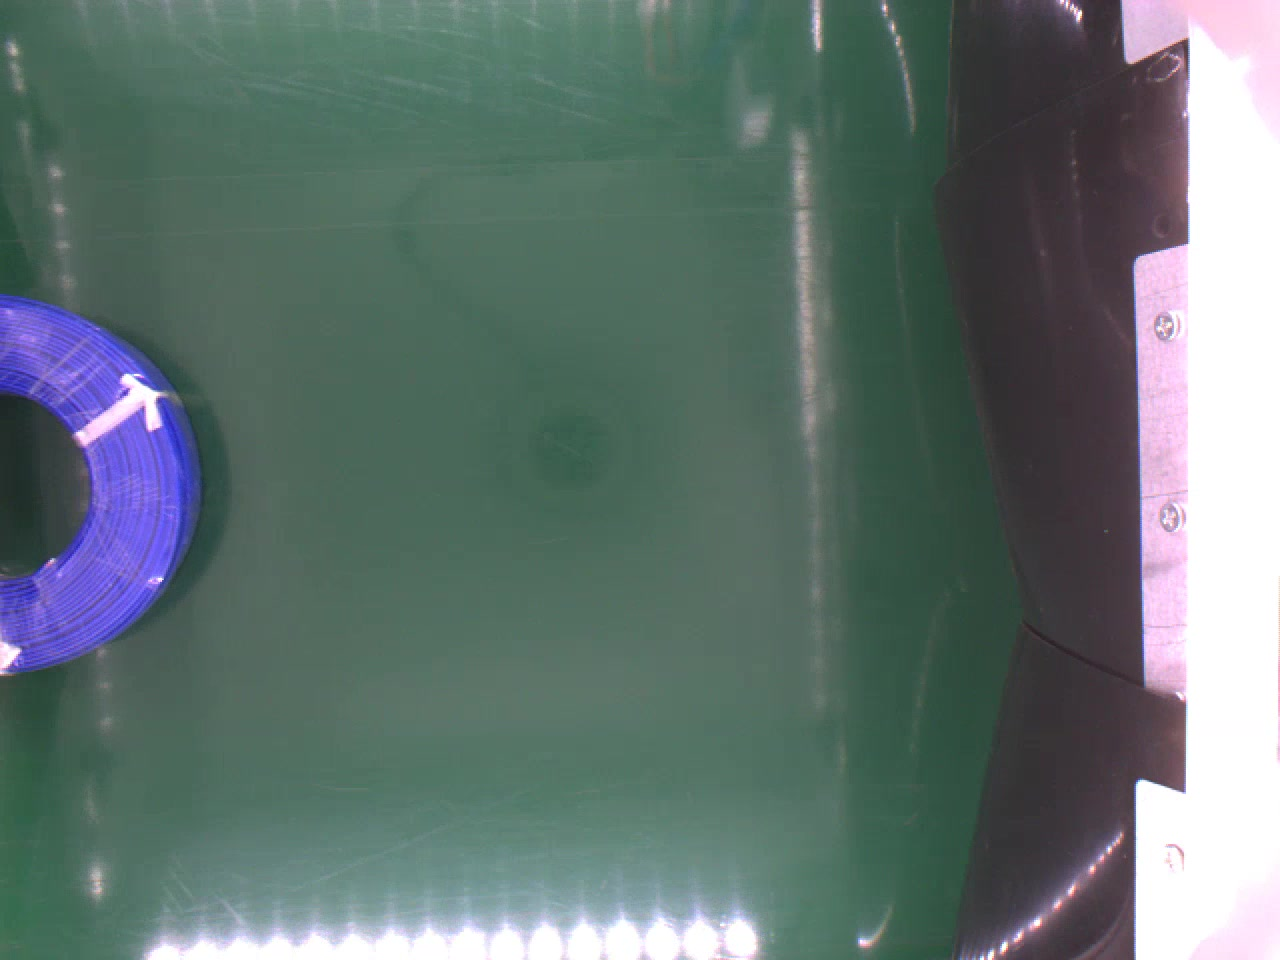blue: (0, 295, 199, 672)
